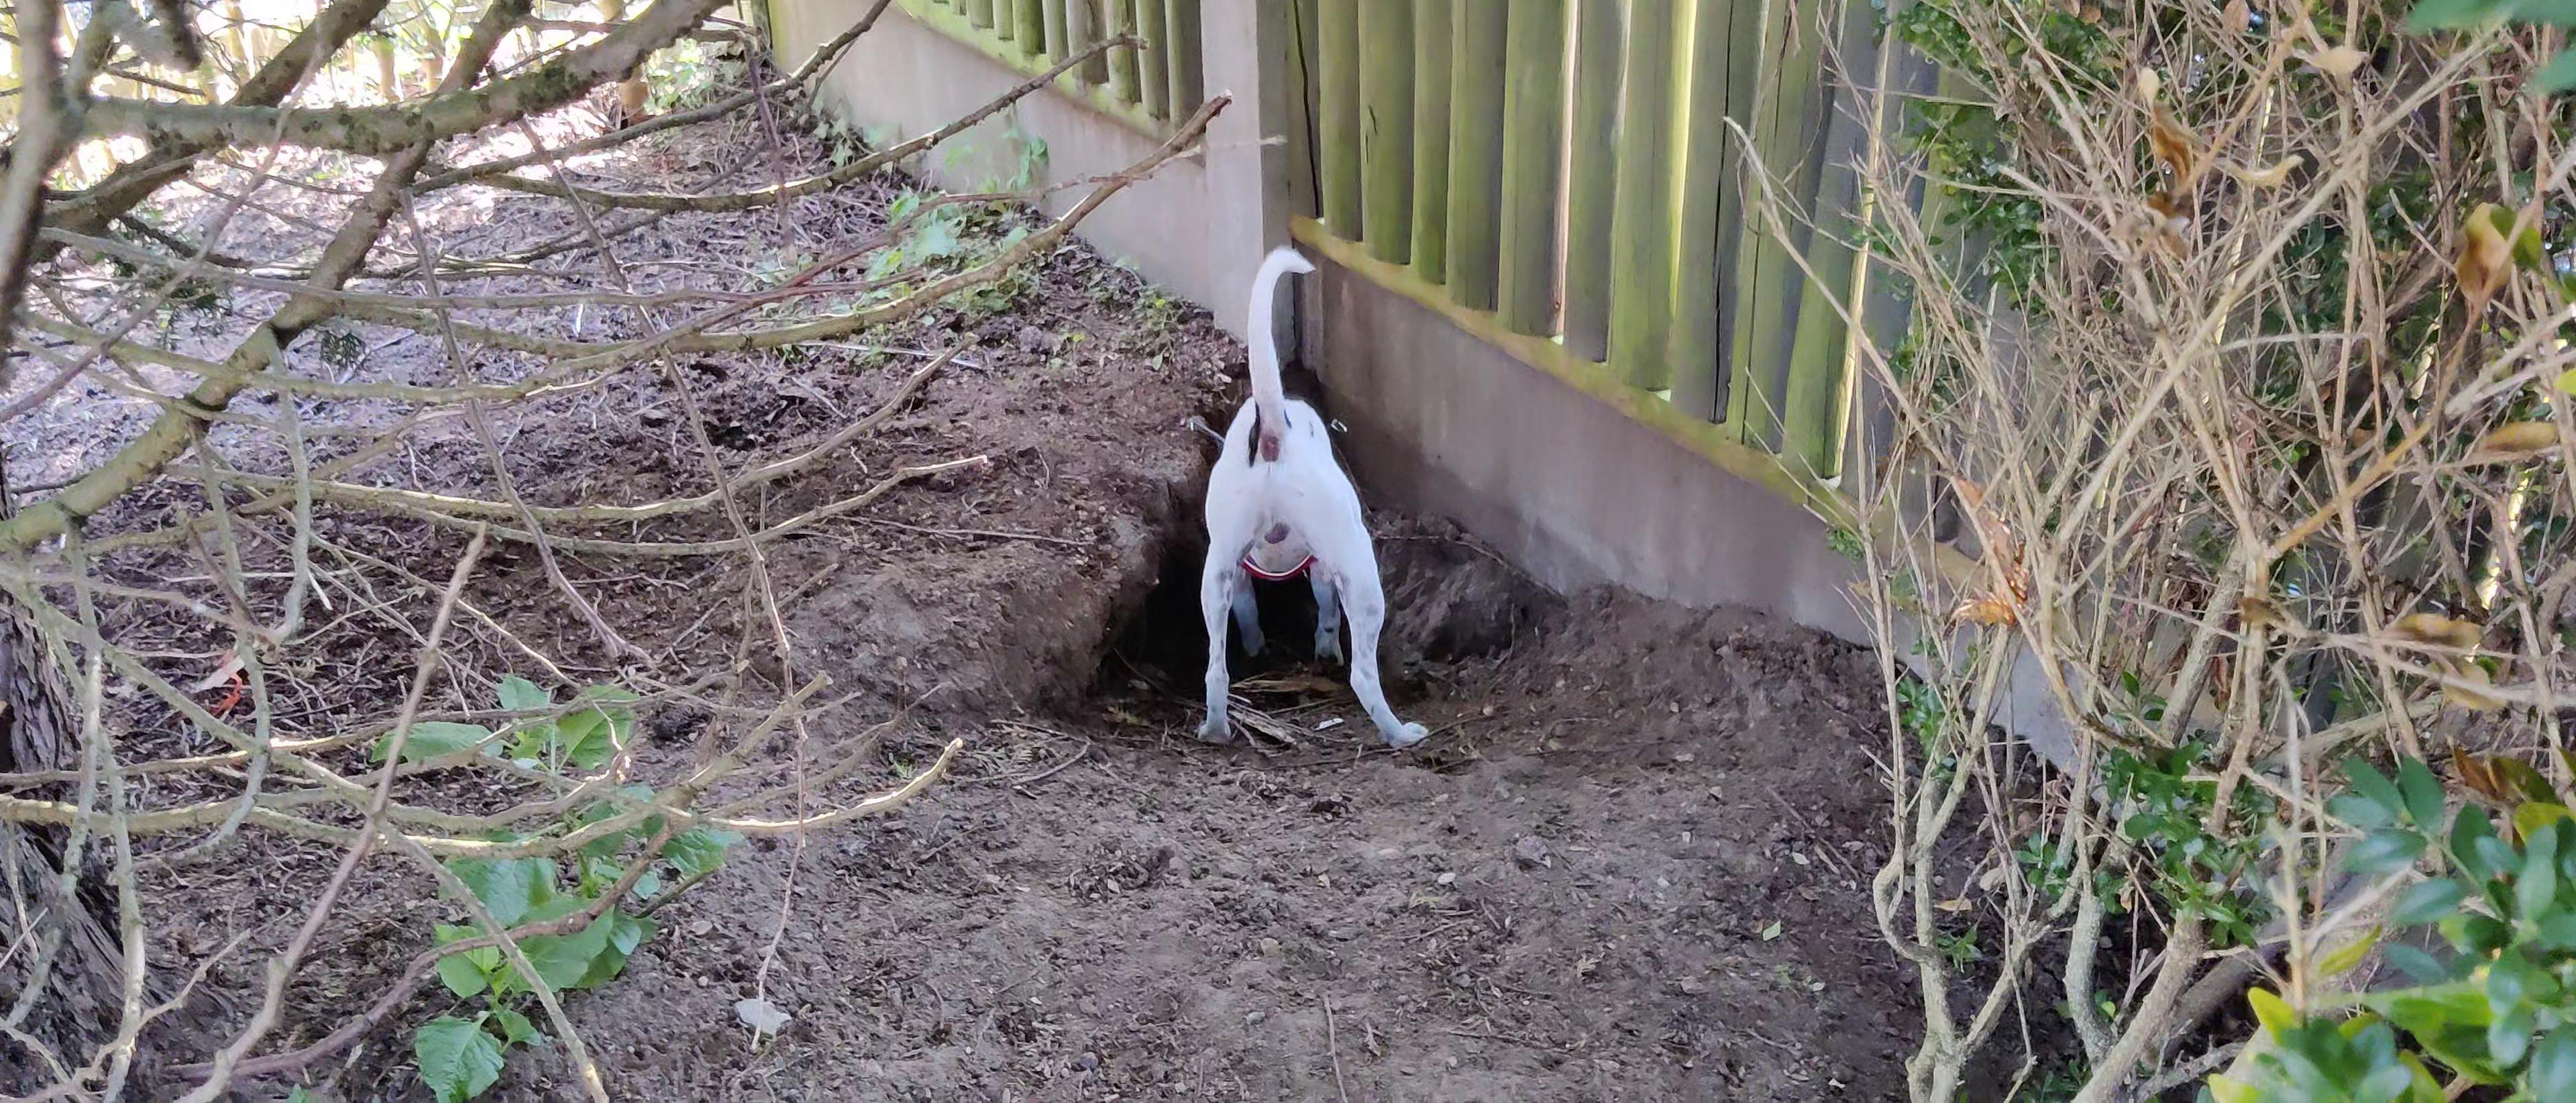Dog: (1145, 215, 1452, 768)
